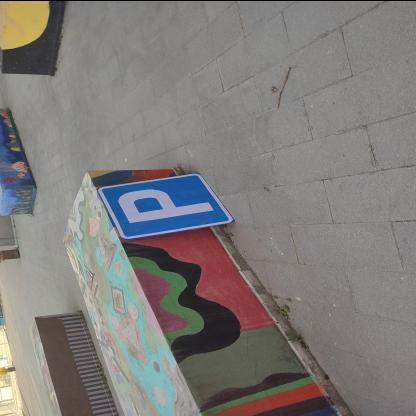Parking-Sign: (98, 173, 235, 241)
